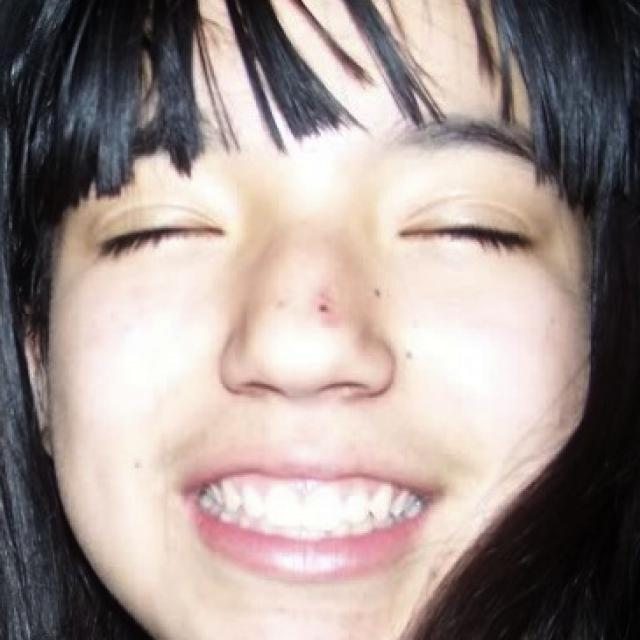sleepy: (60, 124, 546, 584)
